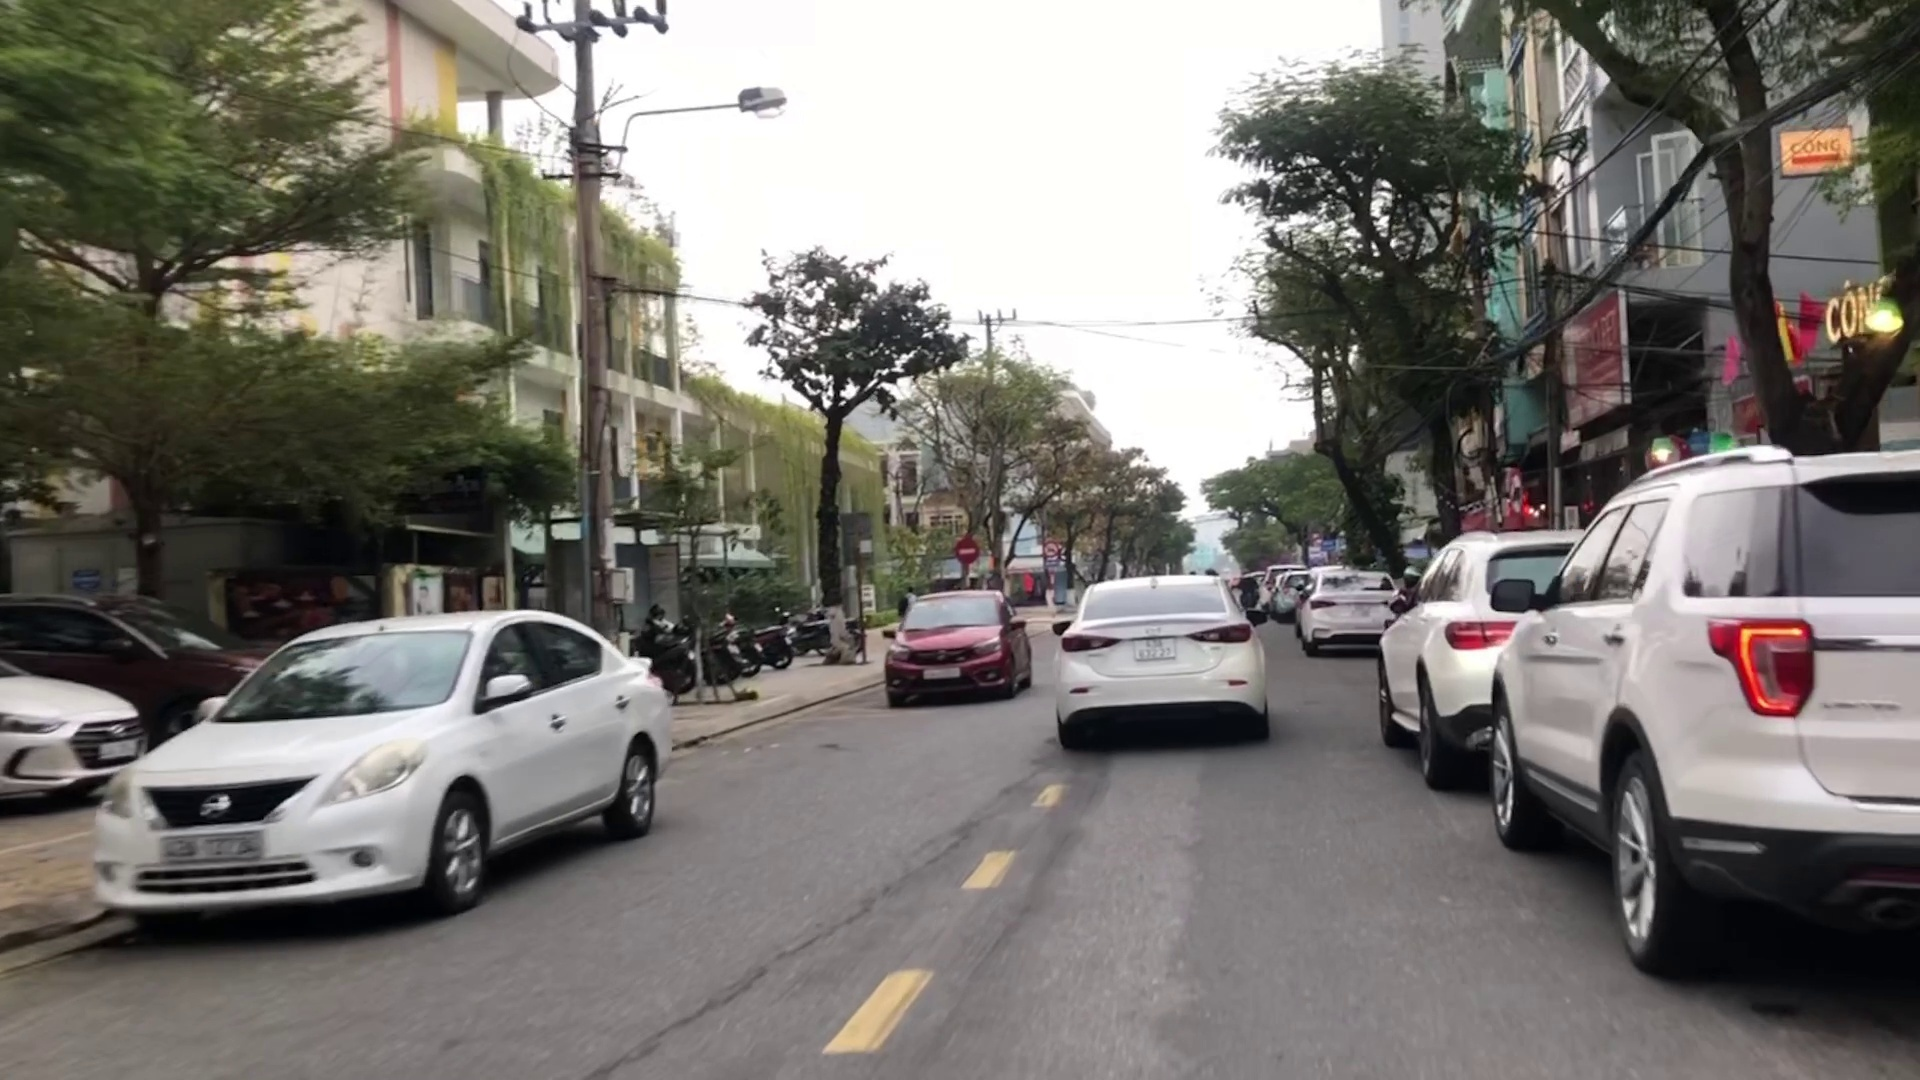Cam di nguoc chieu: (953, 538, 978, 564)
